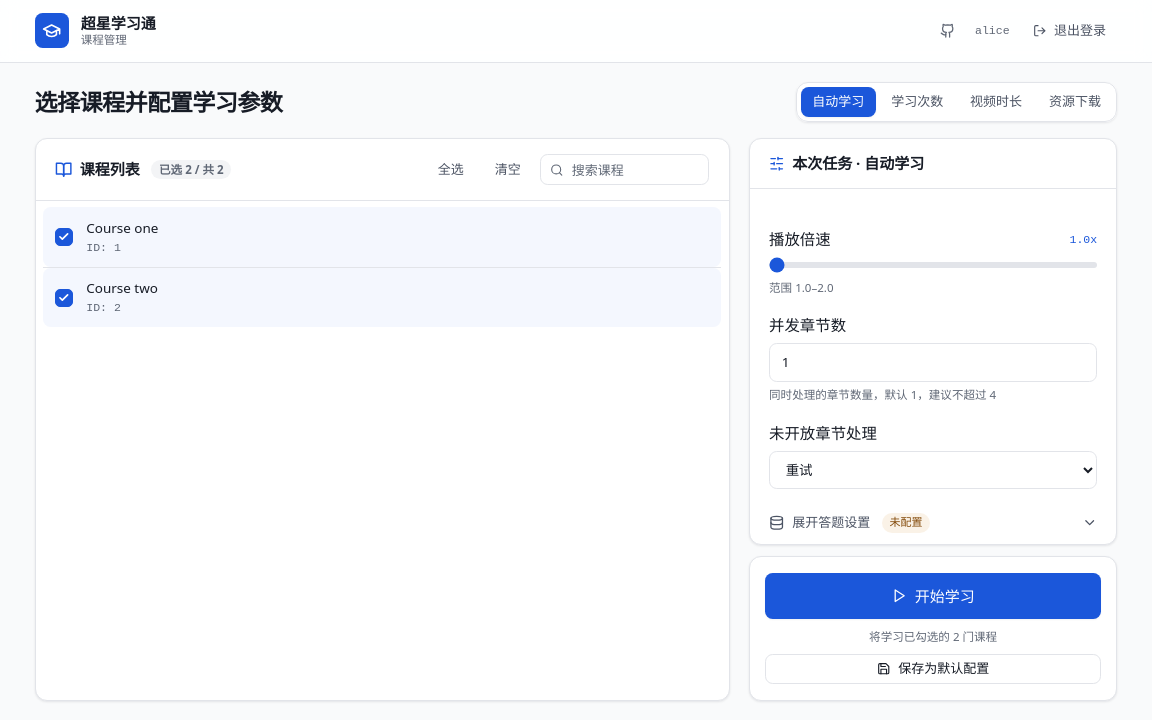
Test case: task navigation › preserves the logged-in account and allows retrying when clearing the session fails
Step 1. Click the button "开始学习" → (933, 596), box [765,573,1101,619]
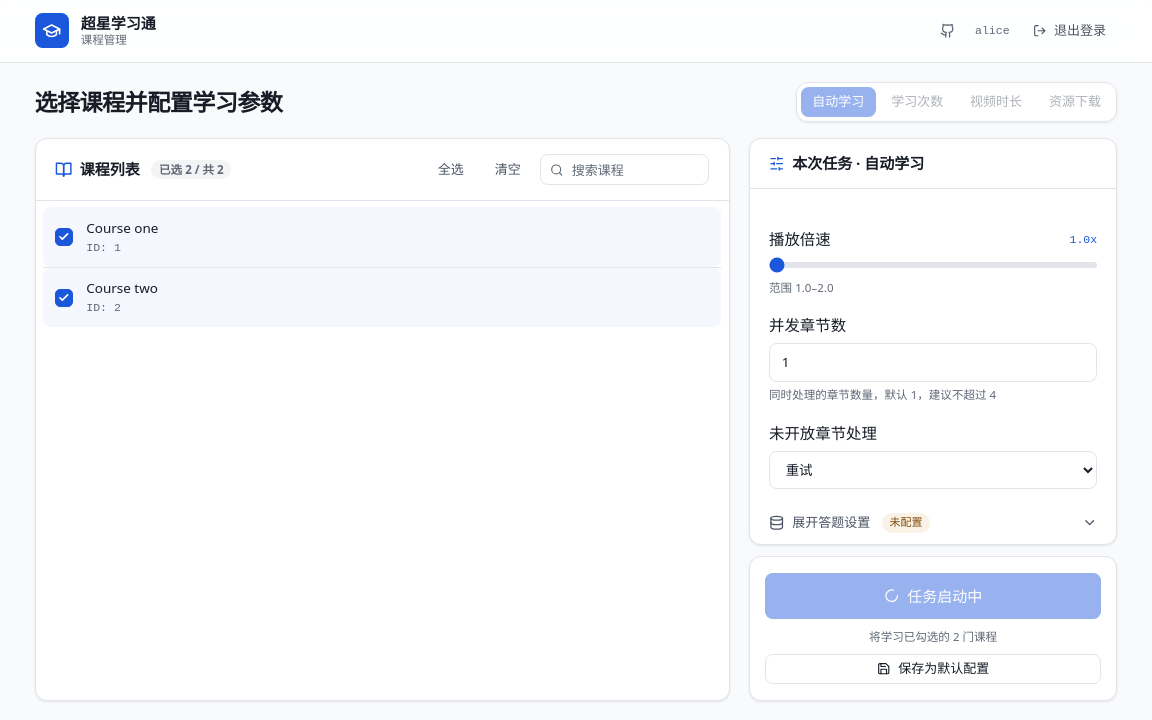
Step 2. Click the button "退出登录" → (1069, 31), box [1021,15,1118,46]
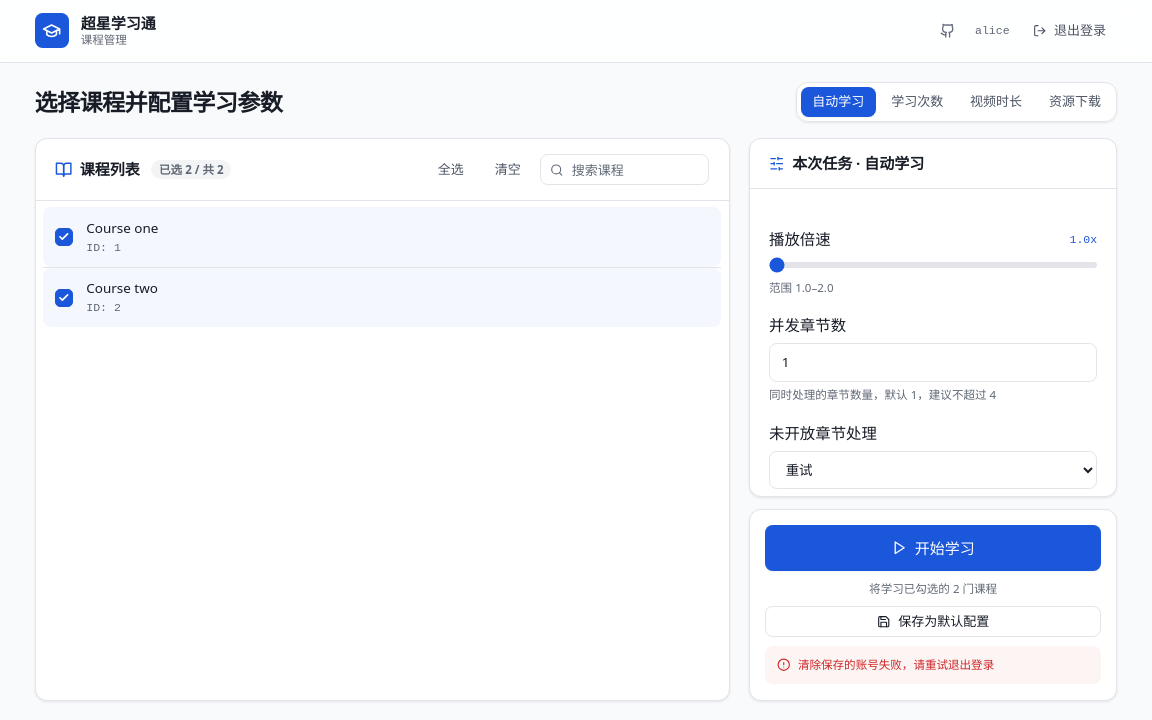
Check: the text "alice" is shown, box [975,23,1010,38]
Check: the message shows "清除保存的账号失败", box [798,657,994,672]
Check: the button "开始学习" is enabled
Step 3. Click the button "开始学习" → (933, 548), box [765,525,1101,571]
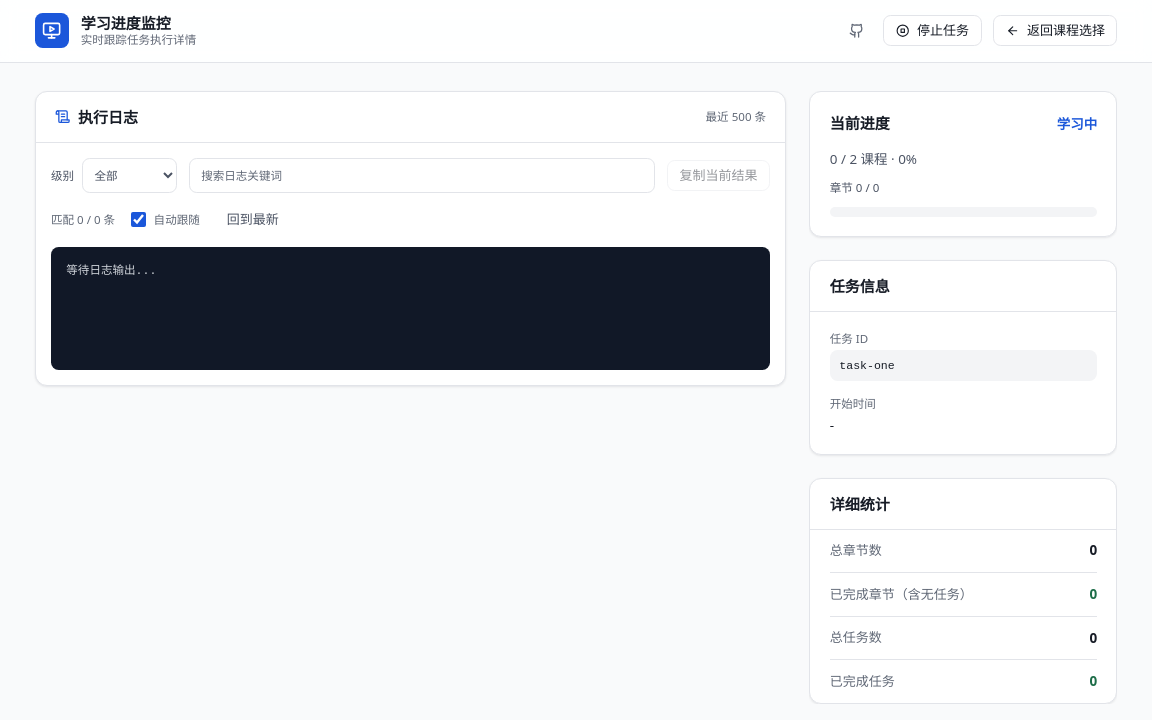
Check: the text "task-one" is shown, box [830,350,1097,381]
